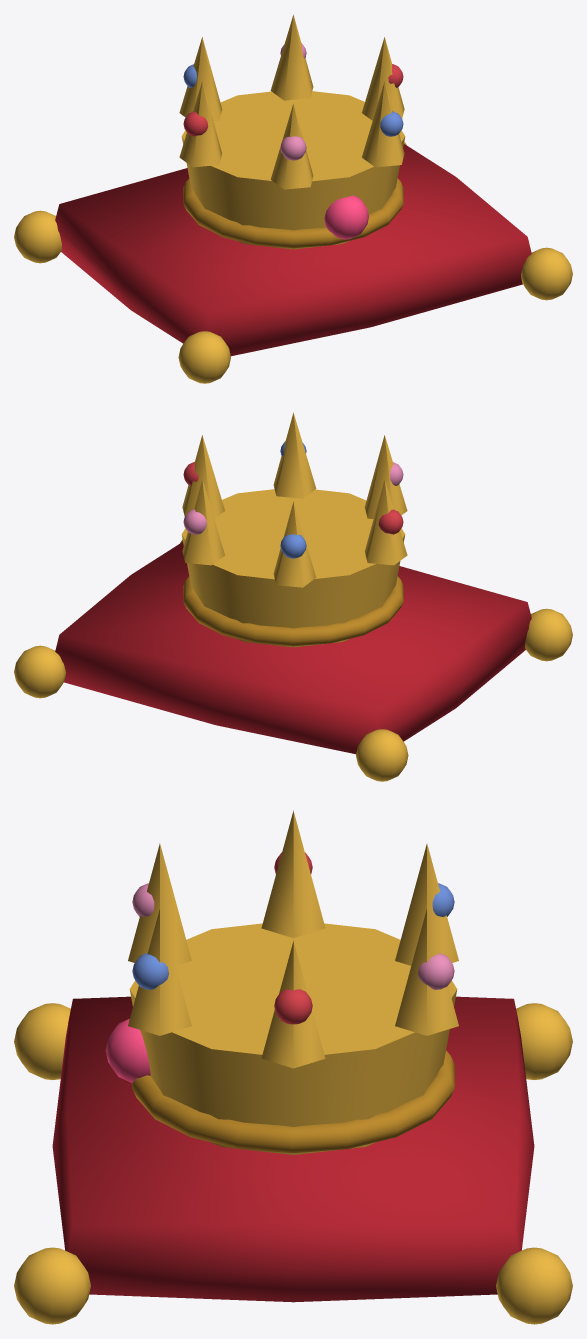
File: crown_cushion.glb
The picture shows the model from 3 angles, top to bottom: view 1: azimuth 30°, elevation 25°; view 2: azimuth 150°, elevation 25°; view 3: azimuth 270°, elevation 25°; orthographic projection. The views are drawn at different scales.
Parts seen in each view (by area): view 1: root; view 2: root; view 3: root.
Part boxes in pixels (left/top/right/bottom): root: left=14, top=14, right=572, bottom=383; root: left=14, top=412, right=572, bottom=781; root: left=14, top=810, right=572, bottom=1324.
Bounding box in the file's own units: 0.68 × 0.37 × 0.58.
